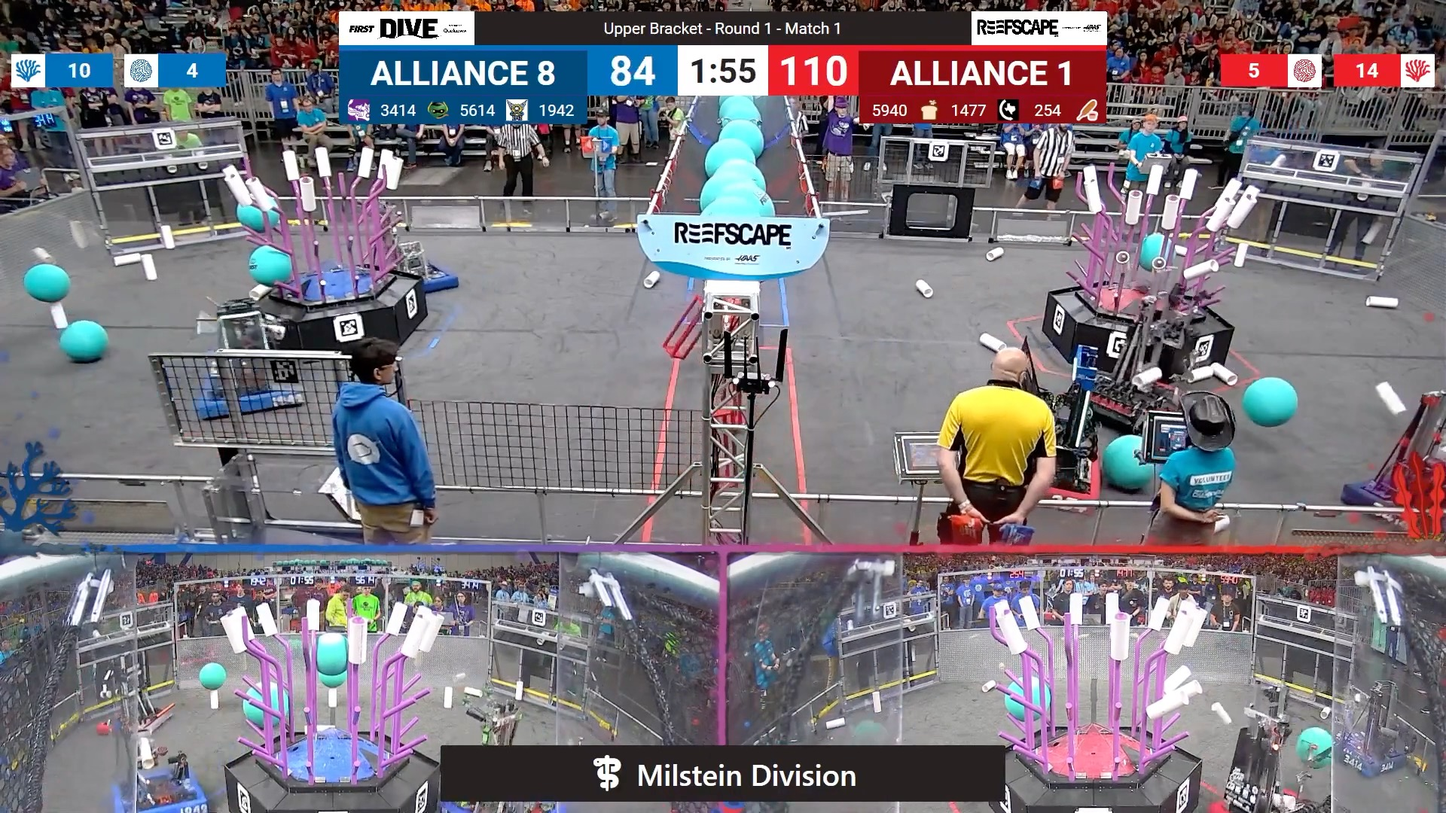bumpers: (998, 438, 1110, 515), (189, 356, 312, 425), (1339, 476, 1446, 542), (107, 756, 212, 813), (1200, 776, 1327, 813), (387, 258, 465, 292)
